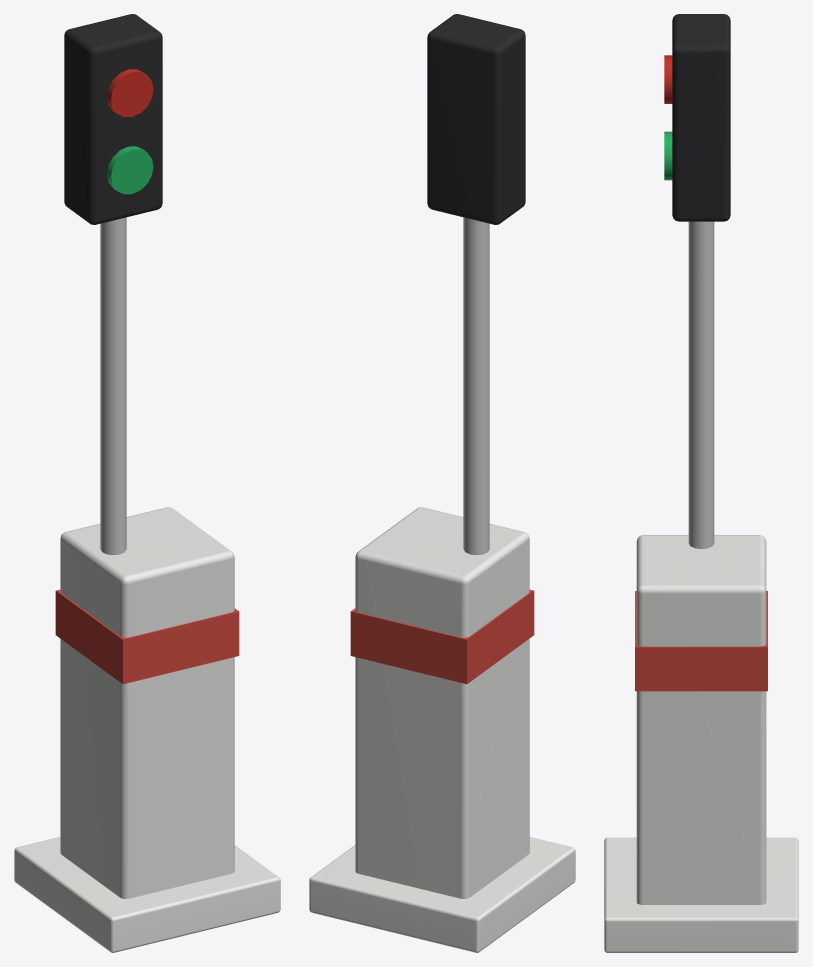
The model's file is ferry_barrier.glb.
The picture shows the model from 3 angles, left to right: view 1: azimuth 30°, elevation 25°; view 2: azimuth 150°, elevation 25°; view 3: azimuth 270°, elevation 25°; orthographic projection.
Visible parts, largest first — view 1: SM_ferry_barrier; view 2: SM_ferry_barrier; view 3: SM_ferry_barrier.
Boxes of the visible parts, x1,y1,x2,y2 form: SM_ferry_barrier: (14, 14, 280, 952); SM_ferry_barrier: (309, 14, 575, 952); SM_ferry_barrier: (604, 14, 798, 952).
Size of the model in its own units: 0.6 by 2.95 by 0.6.
